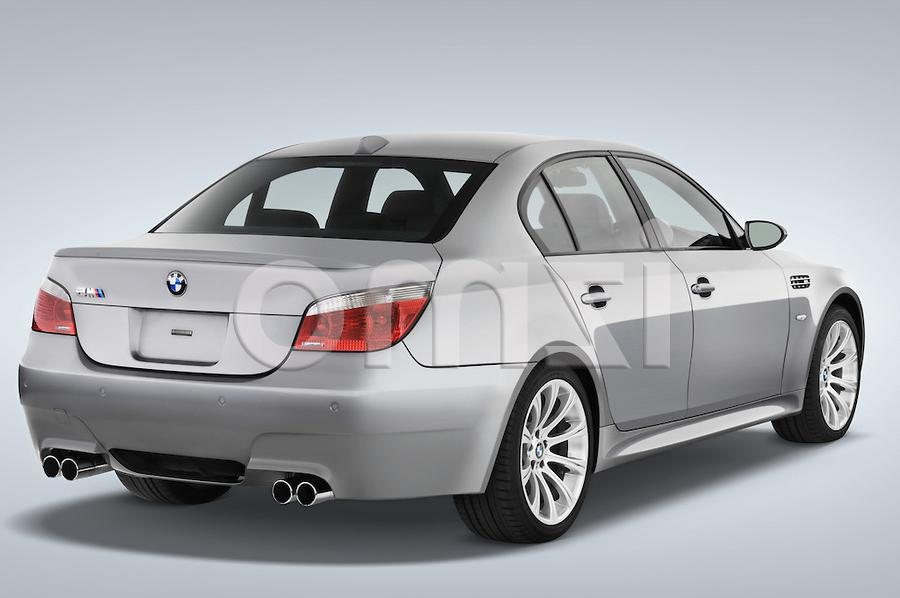Car: (2, 92, 893, 575)
